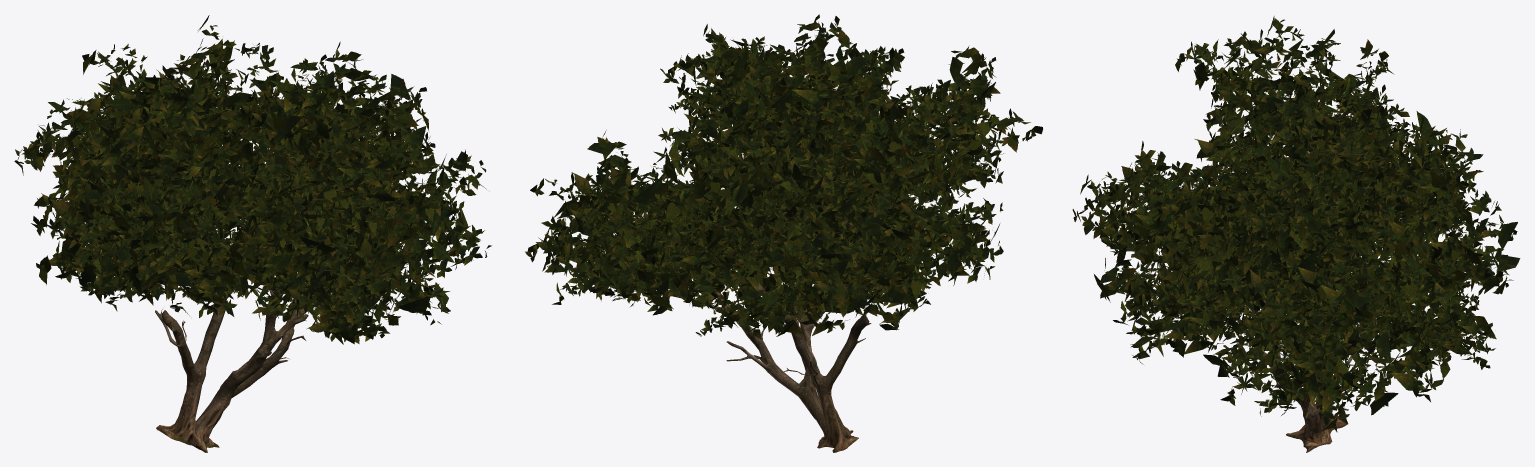
Rendered from drzewo_verdant.glb.
The picture shows the model from 3 angles, left to right: view 1: azimuth 30°, elevation 25°; view 2: azimuth 150°, elevation 25°; view 3: azimuth 270°, elevation 25°; orthographic projection. The views are drawn at different scales.
Parts seen in each view (by area): view 1: liscie_0, liscie_1, liscie_2, liscie_3, pien; view 2: liscie_0, liscie_1, liscie_2, liscie_3, pien; view 3: liscie_0, liscie_1, liscie_2, liscie_3, pien.
Part boxes in pixels (<box>): liscie_0: <box>15,25,491,341</box>; liscie_1: <box>14,29,482,341</box>; liscie_2: <box>19,36,477,344</box>; liscie_3: <box>21,15,489,344</box>; pien: <box>155,278,316,452</box>; liscie_0: <box>525,14,1040,336</box>; liscie_1: <box>530,16,1041,334</box>; liscie_2: <box>527,22,1042,339</box>; liscie_3: <box>544,29,1017,336</box>; pien: <box>711,279,871,452</box>; liscie_0: <box>1073,18,1517,430</box>; liscie_1: <box>1072,17,1516,432</box>; liscie_2: <box>1080,16,1512,425</box>; liscie_3: <box>1077,36,1520,430</box>; pien: <box>1253,300,1374,452</box>.
Bounding box in the file's own units: 5.46 × 4.18 × 4.56.
2 materials, 2 textured.
